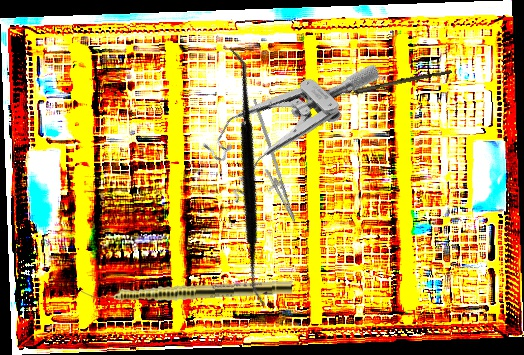Handpiece: (80, 277, 293, 306)
Needle Holder: (229, 98, 311, 227)
Spatula Surgical: (125, 45, 368, 309)
Speculum: (187, 15, 385, 218)
Surgical Spoon: (321, 67, 452, 103)
